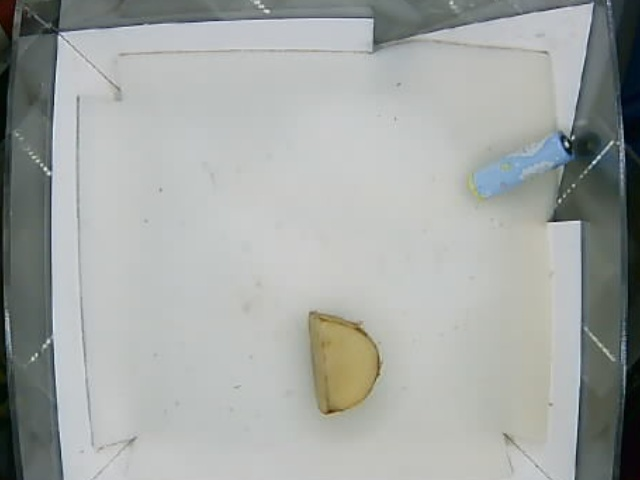Battery: (464, 129, 573, 201)
Potato: (305, 311, 384, 411)
